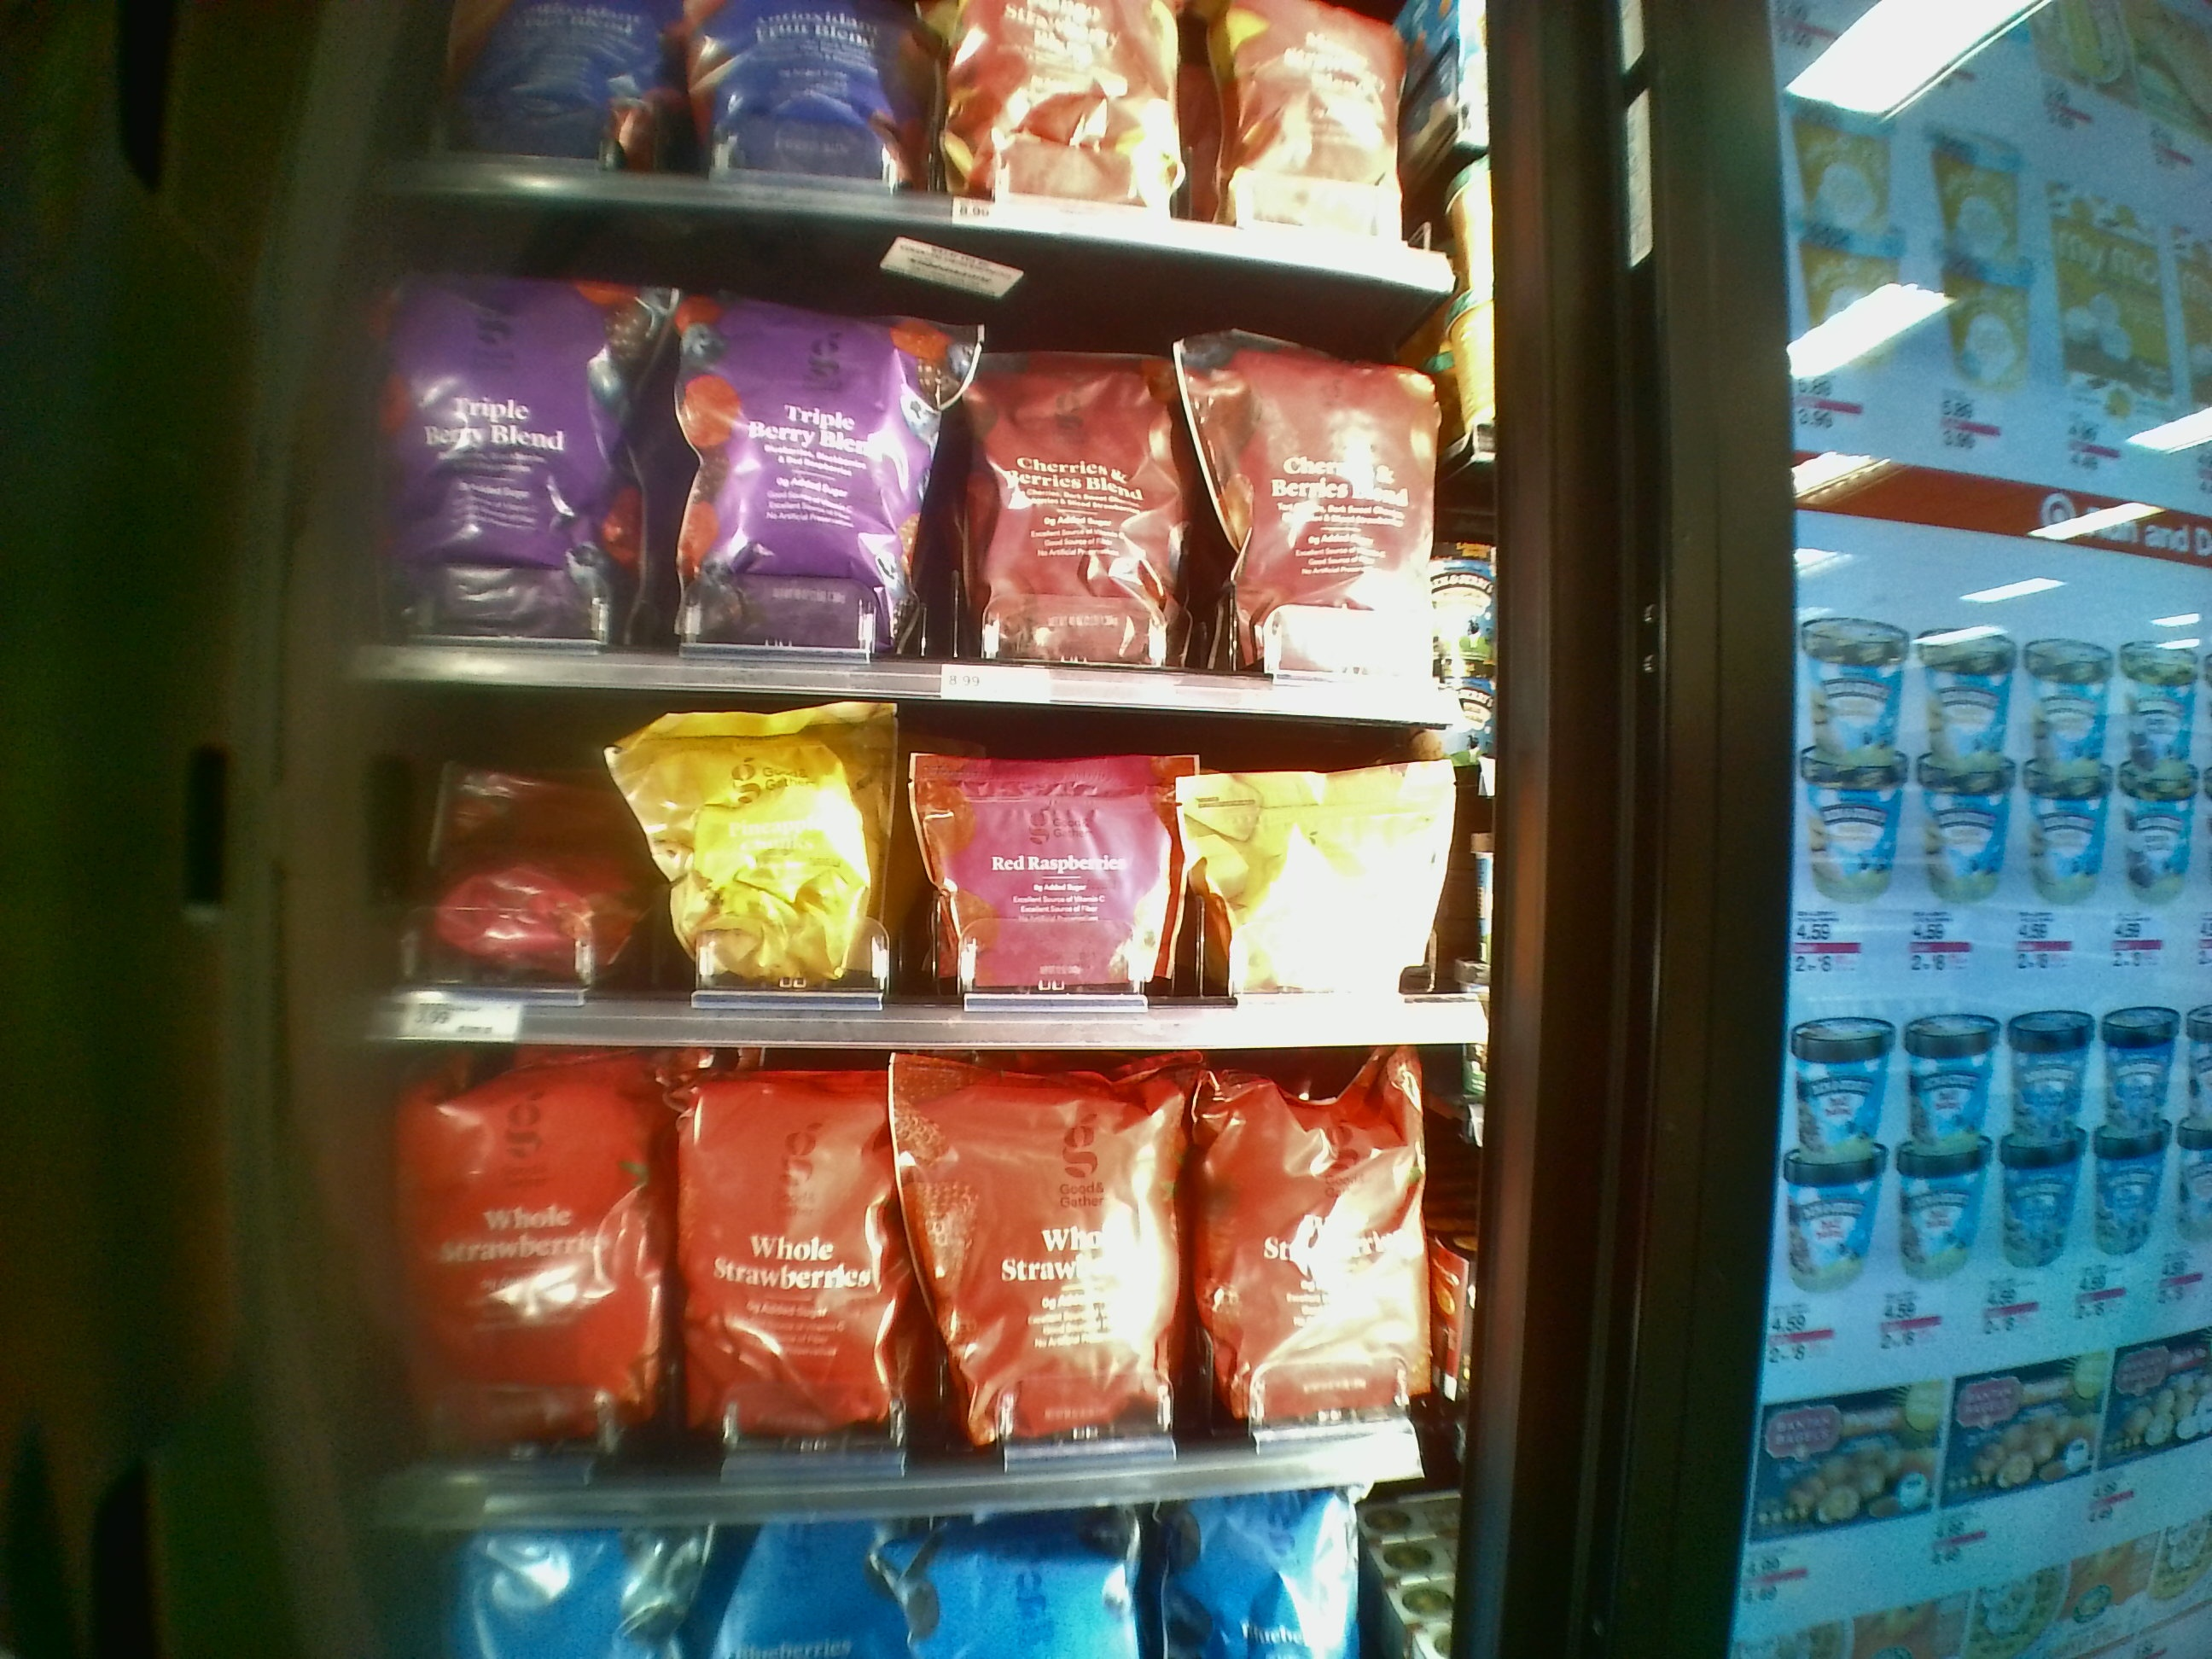shelf: (380, 1035, 1465, 1514), (359, 254, 1475, 718), (355, 716, 1491, 1040)
